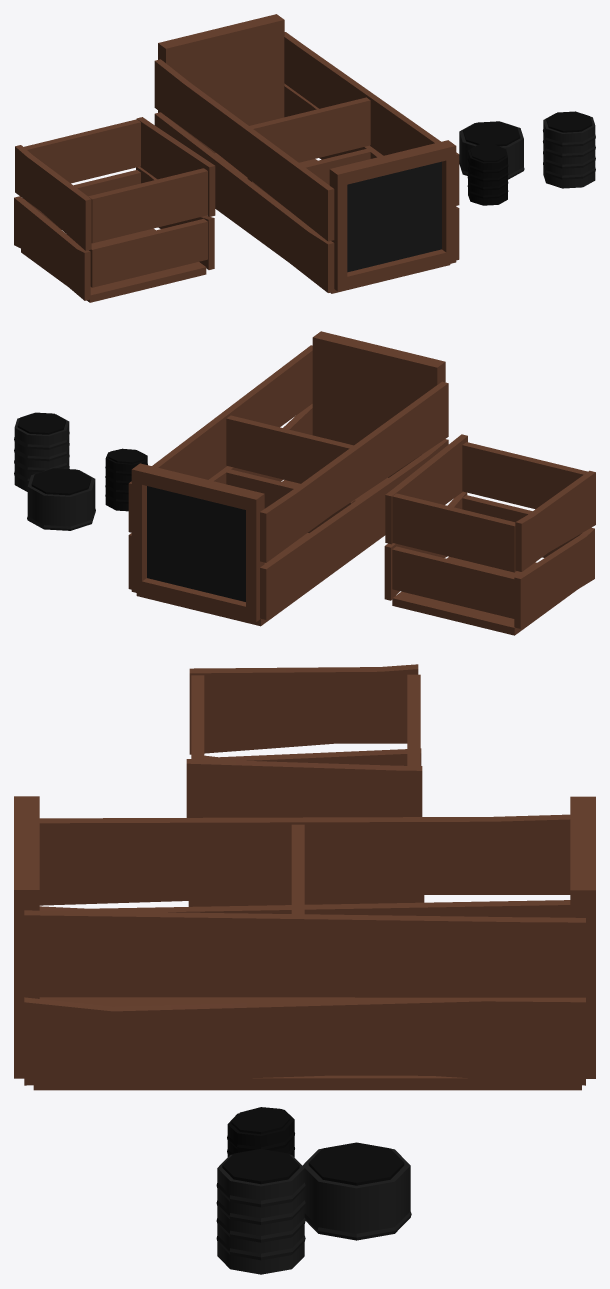
3 renders of one model, top to bottom at view 1: azimuth 30°, elevation 25°; view 2: azimuth 150°, elevation 25°; view 3: azimuth 270°, elevation 25°, orthographic. The views are drawn at different scales.
Parts seen in each view (by area): view 1: fruits_box_type1_01, fruits_box_type2_01, Banka_type1_01, Banka_type2_01, Banka_type1_002; view 2: fruits_box_type1_01, fruits_box_type2_01, Banka_type1_002, Banka_type1_01, Banka_type2_01; view 3: fruits_box_type1_01, fruits_box_type2_01, Banka_type1_01, Banka_type1_002, Banka_type2_01.
Boxes of the visible parts, <box> form: fruits_box_type1_01: <box>154,14,459,293</box>; fruits_box_type2_01: <box>14,117,215,302</box>; Banka_type1_01: <box>543,111,595,188</box>; Banka_type2_01: <box>467,144,508,205</box>; Banka_type1_002: <box>459,121,524,179</box>; fruits_box_type1_01: <box>128,331,448,626</box>; fruits_box_type2_01: <box>384,434,595,635</box>; Banka_type1_002: <box>27,468,95,530</box>; Banka_type1_01: <box>14,412,69,491</box>; Banka_type2_01: <box>105,448,147,511</box>; fruits_box_type1_01: <box>14,796,595,1090</box>; fruits_box_type2_01: <box>186,664,424,906</box>; Banka_type1_01: <box>216,1149,305,1274</box>; Banka_type1_002: <box>302,1142,411,1240</box>; Banka_type2_01: <box>227,1107,294,1157</box>.
Size of the model in its own units: 197 by 47.46 by 116.
